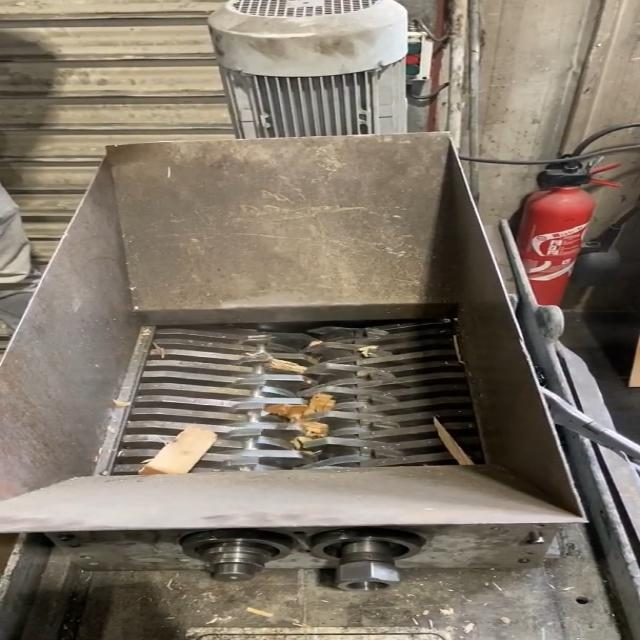Broyeur: (72, 295, 499, 494)
